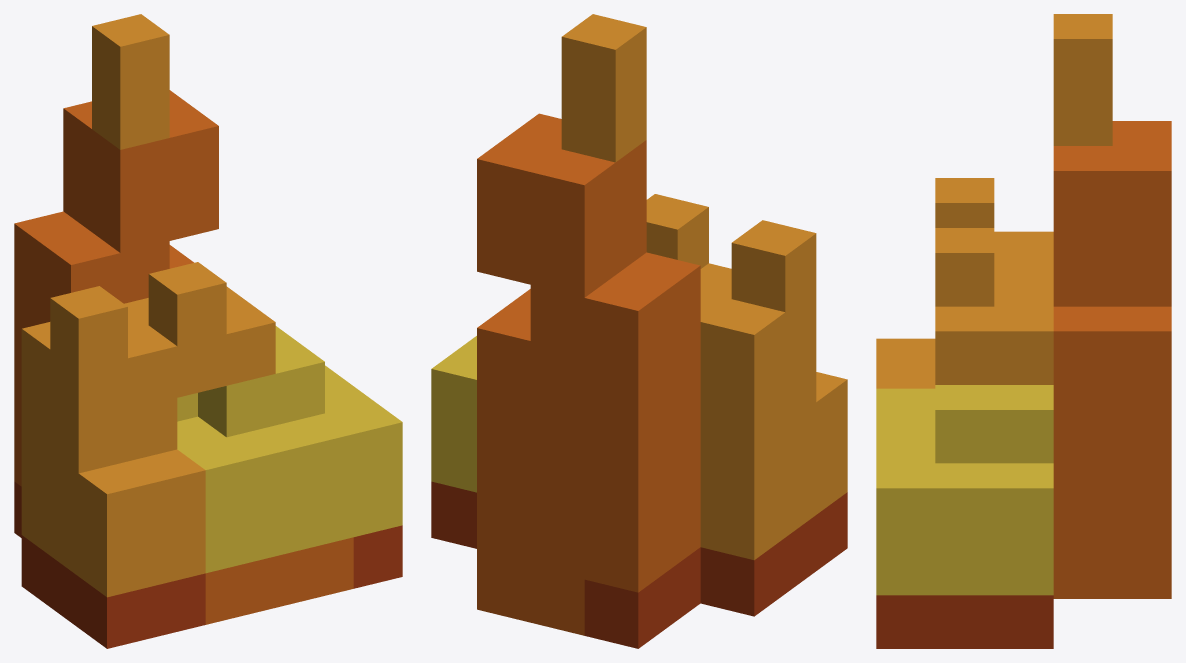
File: flame_02.glb
3 renders of one model, left to right at view 1: azimuth 30°, elevation 25°; view 2: azimuth 150°, elevation 25°; view 3: azimuth 270°, elevation 25°, orthographic. The views are drawn at different scales.
Visible parts, largest first — view 1: flame_02; view 2: flame_02; view 3: flame_02.
Boxes of the visible parts, x1,y1,x2,y2 form: flame_02: (14, 14, 402, 648); flame_02: (431, 14, 847, 648); flame_02: (876, 14, 1171, 648).
Bounding box in the file's own units: 0.75 × 1.25 × 0.625.
